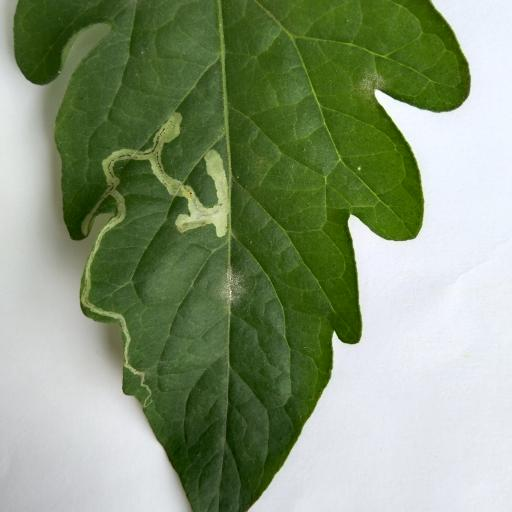disease_tomato: (14, 0, 472, 512)
